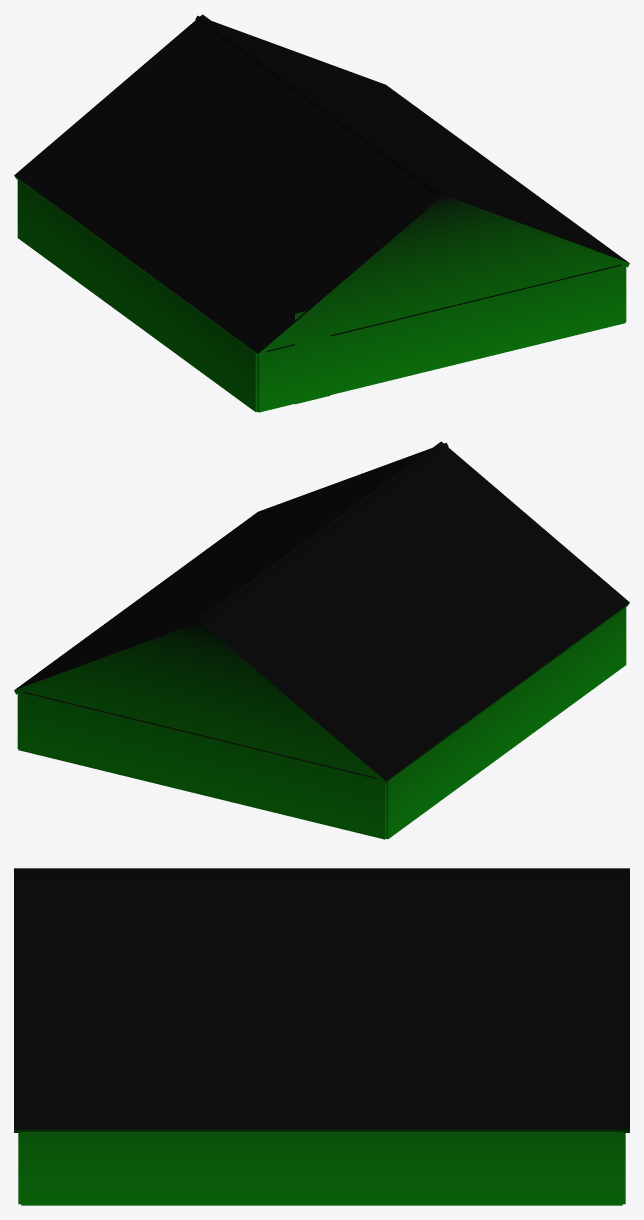
File: tent.glb
3 views of the same model, one above another, from view 1: azimuth 30°, elevation 25°; view 2: azimuth 150°, elevation 25°; view 3: azimuth 270°, elevation 25° (orthographic). The views are drawn at different scales.
Parts seen in each view (by area): view 1: lod0; view 2: lod0; view 3: lod0.
Part boxes in pixels (bbox=[...]): lod0: bbox=[14, 14, 629, 412]; lod0: bbox=[14, 441, 629, 839]; lod0: bbox=[14, 868, 629, 1205].
Size of what is drawn, in the model's own units: 7.3 by 3.29 by 8.3.
